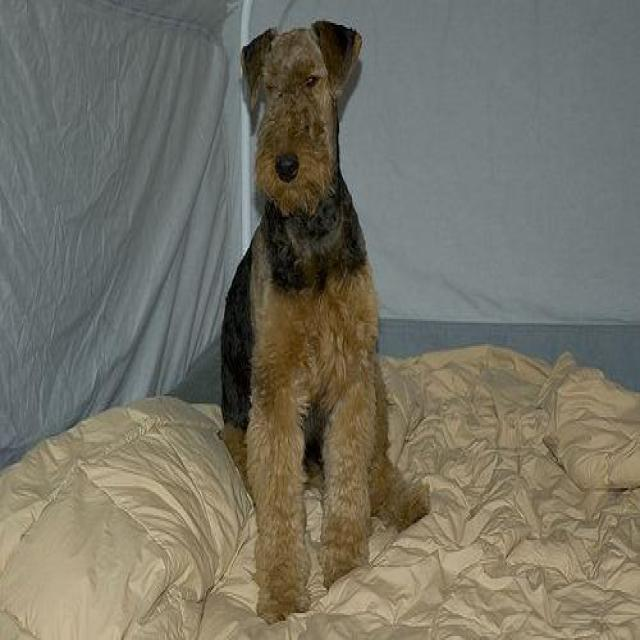airedale: (213, 15, 435, 623)
